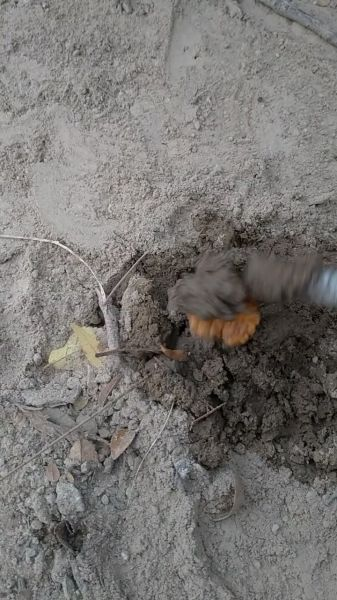eggs: (188, 299, 267, 350)
